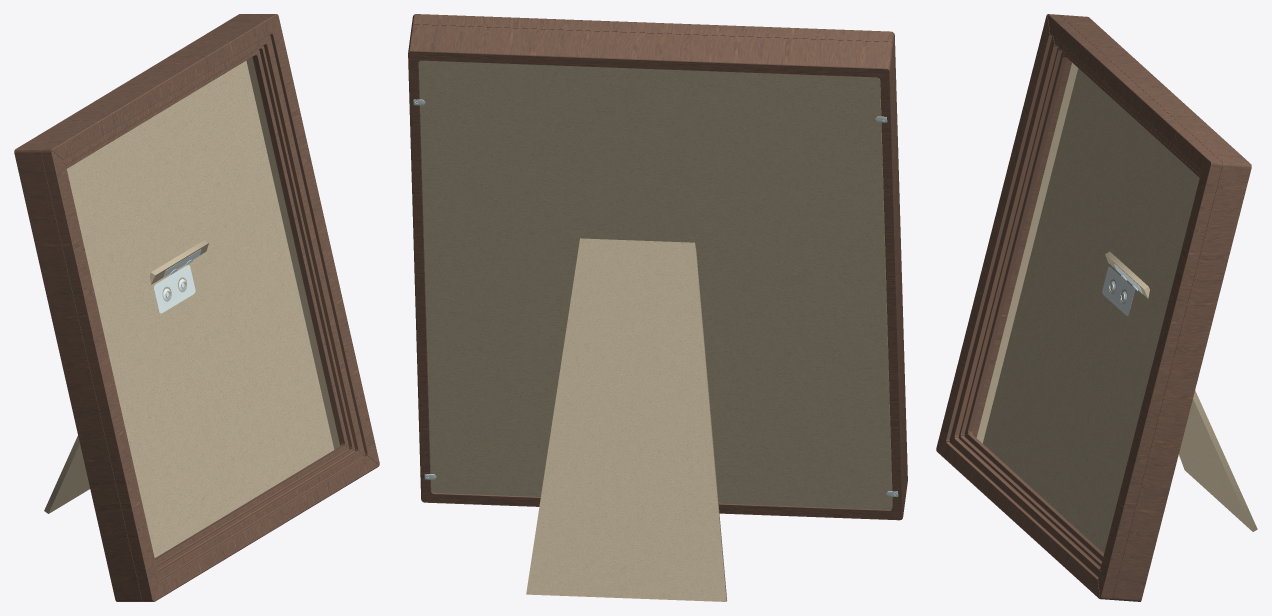
File: cadre.fbx
The picture shows the model from 3 angles, left to right: view 1: azimuth 30°, elevation 25°; view 2: azimuth 150°, elevation 25°; view 3: azimuth 270°, elevation 25°; orthographic projection. The views are drawn at different scales.
Visible parts, largest first — view 1: Cube.002_Wood.001_0; view 2: Cube.002_Wood.001_0; view 3: Cube.002_Wood.001_0.
Boxes of the visible parts, x1=… form: Cube.002_Wood.001_0: x1=14, y1=14, x2=379, y2=601; Cube.002_Wood.001_0: x1=408, y1=14, x2=907, y2=601; Cube.002_Wood.001_0: x1=936, y1=14, x2=1257, y2=601.
Size of the model in its own units: 101 by 112 by 76.47.
3 materials, 3 textured.
